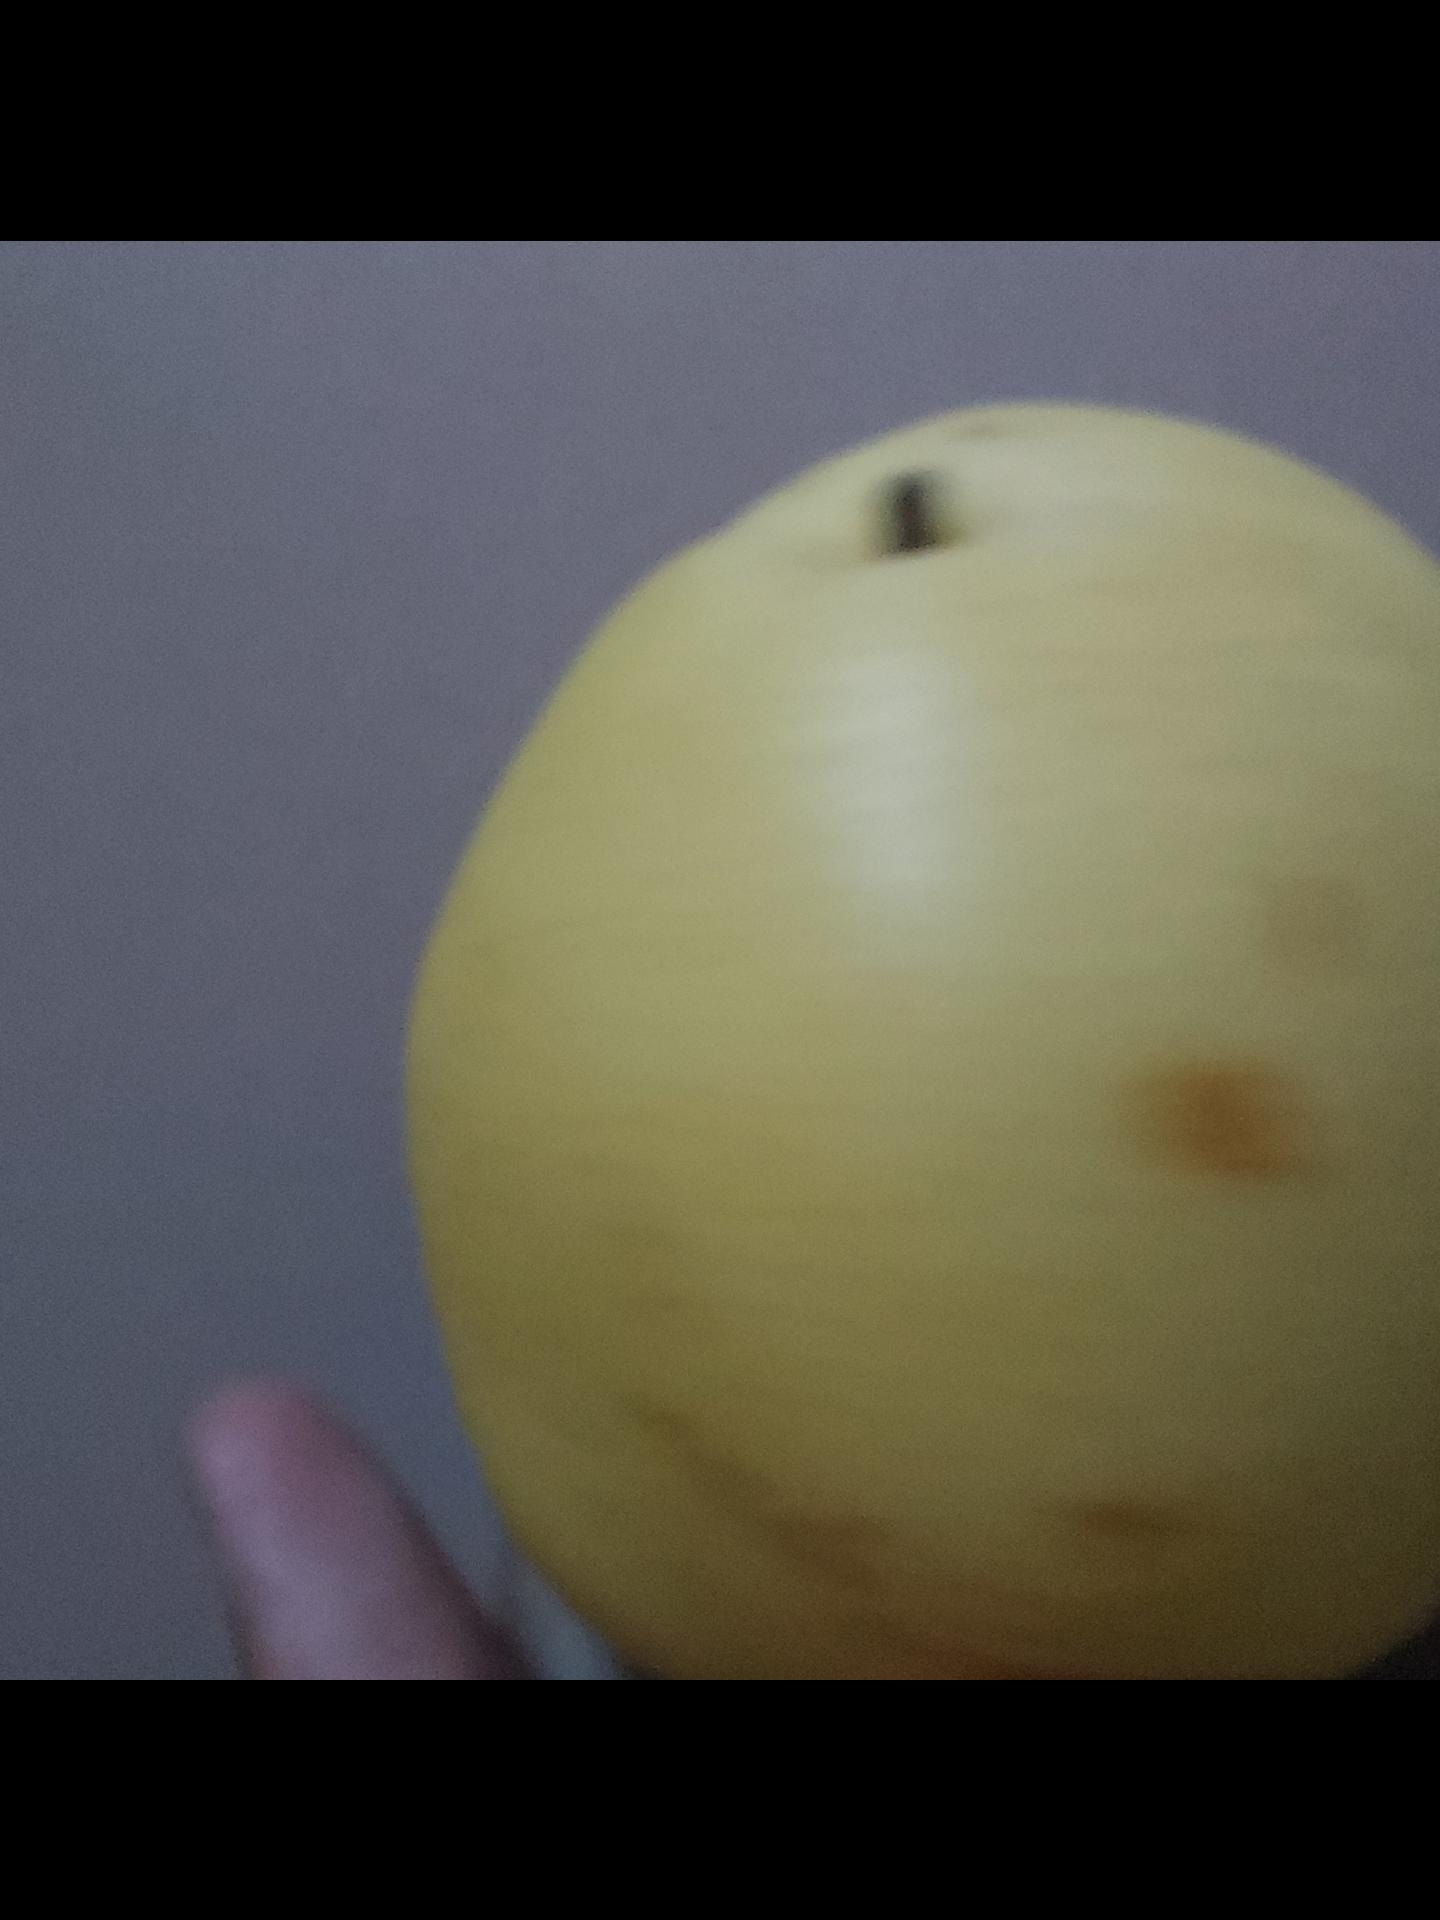Good Pear: (396, 384, 1440, 1680)
